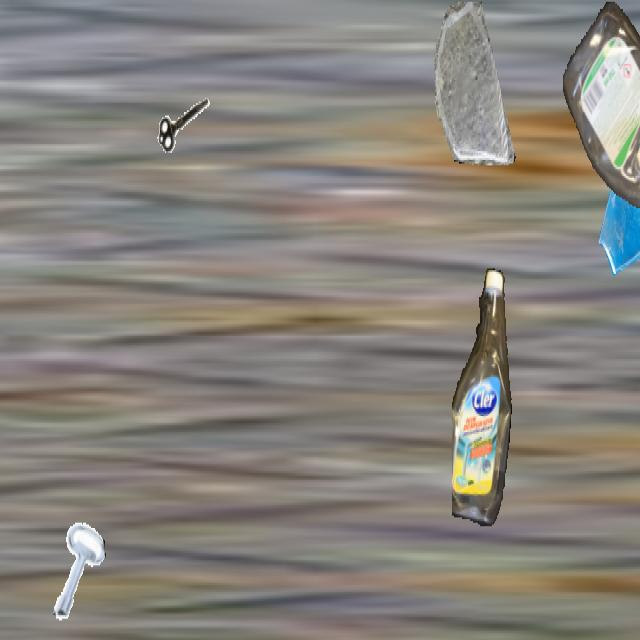glass: (429, 2, 521, 165), (597, 167, 640, 285)
metal: (46, 516, 106, 622), (155, 74, 213, 178)
plastic: (563, 2, 640, 233), (452, 268, 512, 524)
